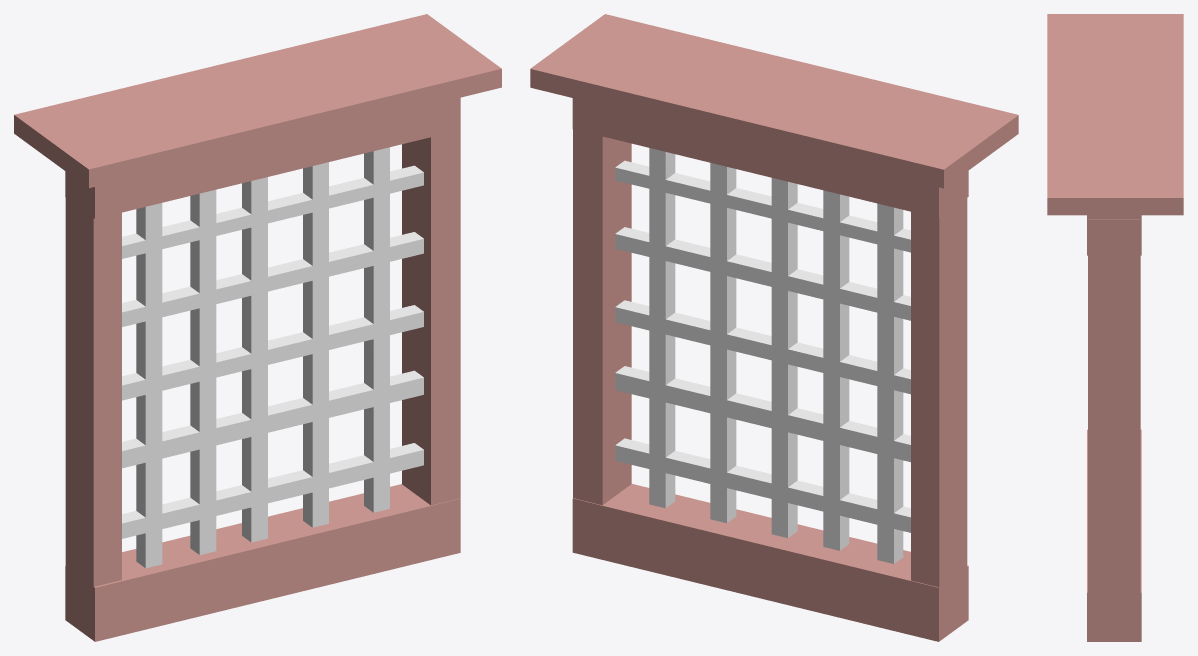
The model's file is sweethome3d-contributions-small-border-fence-171.glb.
3 renders of one model, left to right at view 1: azimuth 30°, elevation 25°; view 2: azimuth 150°, elevation 25°; view 3: azimuth 270°, elevation 25°, orthographic. The views are drawn at different scales.
Parts seen in each view (by area): view 1: top, frame_2, frame_1, frame, frame_3, Cube_1_1, Cube_1, Cube_1_4, Cube_1_2, Cube_1_3, Cube_2_4, Cube_2_2 (+3 smaller); view 2: top, frame_2, frame_1, frame, frame_3, Cube_1, Cube_1_2, Cube_1_1, Cube_1_3, Cube_1_4, Cube_2_4, Cube_2_3 (+3 smaller); view 3: top, frame, frame_2, frame_3.
Part boxes in pixels (x1=…): top: x1=14, y1=14, x2=501, y2=188; frame_2: x1=65, y1=484, x2=460, y2=641; frame_1: x1=65, y1=172, x2=121, y2=620; frame: x1=402, y1=130, x2=460, y2=505; frame_3: x1=65, y1=97, x2=460, y2=218; Cube_1_1: x1=190, y1=189, x2=216, y2=554; Cube_1: x1=136, y1=203, x2=162, y2=568; Cube_1_4: x1=364, y1=147, x2=389, y2=512; Cube_1_2: x1=242, y1=177, x2=267, y2=542; Cube_1_3: x1=303, y1=162, x2=328, y2=527; Cube_2_4: x1=122, y1=370, x2=423, y2=468; Cube_2_2: x1=122, y1=232, x2=423, y2=326; top: x1=530, y1=14, x2=1018, y2=188; frame_2: x1=572, y1=484, x2=968, y2=641; frame_1: x1=911, y1=172, x2=967, y2=621; frame: x1=573, y1=129, x2=631, y2=505; frame_3: x1=572, y1=98, x2=968, y2=218; Cube_1: x1=877, y1=203, x2=903, y2=563; Cube_1_2: x1=771, y1=178, x2=797, y2=537; Cube_1_1: x1=823, y1=190, x2=849, y2=550; Cube_1_3: x1=710, y1=163, x2=736, y2=523; Cube_1_4: x1=649, y1=148, x2=675, y2=508; Cube_2_4: x1=615, y1=366, x2=910, y2=462; Cube_2_3: x1=615, y1=300, x2=910, y2=394; top: x1=1047, y1=14, x2=1183, y2=215; frame: x1=1088, y1=219, x2=1140, y2=623; frame_2: x1=1087, y1=429, x2=1141, y2=641; frame_3: x1=1087, y1=215, x2=1141, y2=255.
Size of the model in its own units: 3.62 by 4.15 by 1.14.
